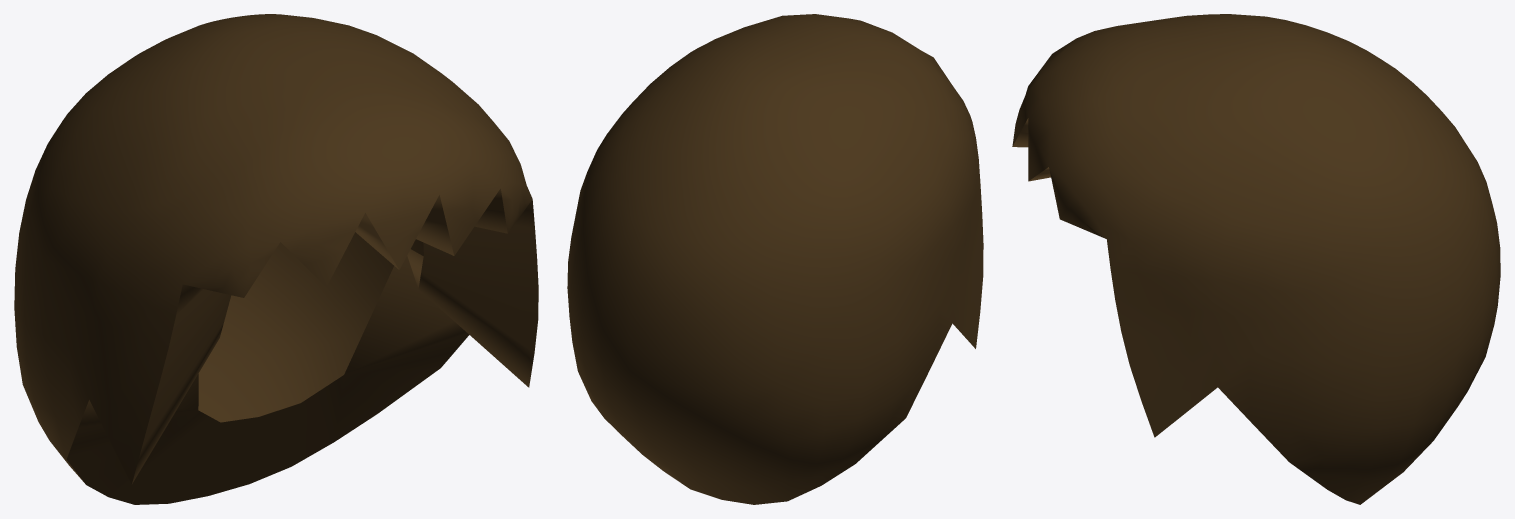
Rendered from hair_hair_059.gltf.
3 views of the same model, side by side, from view 1: azimuth 30°, elevation 25°; view 2: azimuth 150°, elevation 25°; view 3: azimuth 270°, elevation 25° (orthographic). The views are drawn at different scales.
Visible parts, largest first — view 1: hair.059; view 2: hair.059; view 3: hair.059.
Part boxes in pixels (box(x1,y1,x2,y2)): hair.059: box(14, 14, 538, 504); hair.059: box(567, 14, 983, 504); hair.059: box(1012, 14, 1500, 504).
Size of the model in its own units: 0.639 by 0.7502 by 0.7426.
